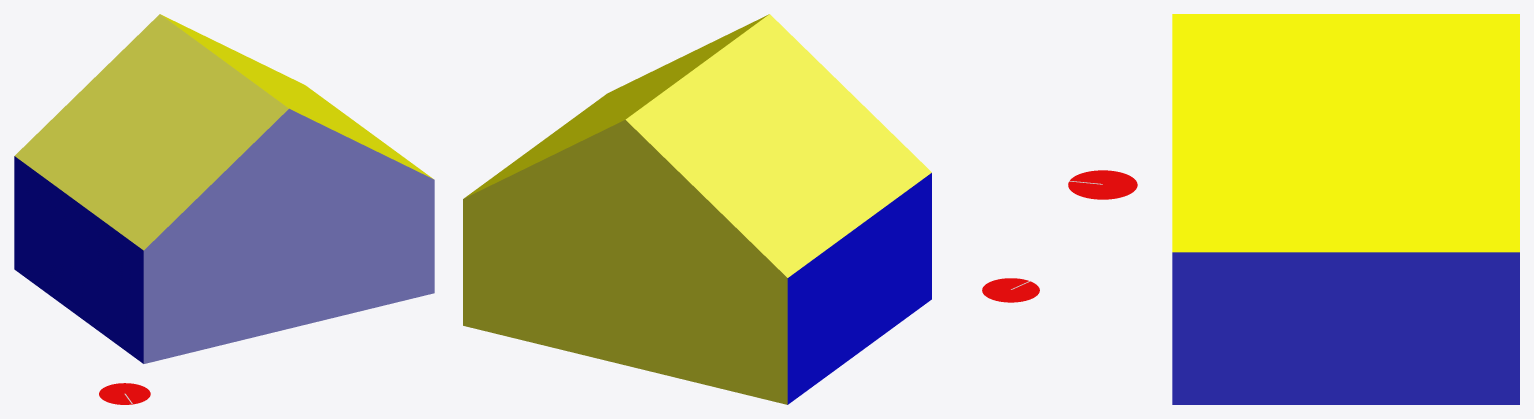
Rendered from result.glb.
3 renders of one model, left to right at view 1: azimuth 30°, elevation 25°; view 2: azimuth 150°, elevation 25°; view 3: azimuth 270°, elevation 25°, orthographic. The views are drawn at different scales.
Visible parts, largest first — view 1: 3507c7cc-89d1-4296-823a-120f9a2b0242__undefined, 63024888-dd49-4917-a18e-969b24917d59__undefined, 0f1f09f8-6d15-47b3-b816-8b475288f99f__undefined, b58f89b9-a729-4d24-a9eb-d510998540a3__undefined, 5fa8e370-a9c3-44a7-90ce-05d37f0db843__Circle; view 2: 46f8d21e-5612-4b25-8464-b7aa5bdd6b7a__undefined, 63024888-dd49-4917-a18e-969b24917d59__undefined, 0f1f09f8-6d15-47b3-b816-8b475288f99f__undefined, b58f89b9-a729-4d24-a9eb-d510998540a3__undefined, 5fa8e370-a9c3-44a7-90ce-05d37f0db843__Circle; view 3: b58f89b9-a729-4d24-a9eb-d510998540a3__undefined, 6f8ccc7a-7783-45f0-9da8-00d0e1b34f09__undefined, 5fa8e370-a9c3-44a7-90ce-05d37f0db843__Circle.
Boxes of the visible parts, box(x1,y1,x2,y2) form: 3507c7cc-89d1-4296-823a-120f9a2b0242__undefined: box(143, 108, 434, 363); 63024888-dd49-4917-a18e-969b24917d59__undefined: box(15, 14, 288, 250); 0f1f09f8-6d15-47b3-b816-8b475288f99f__undefined: box(14, 156, 143, 363); b58f89b9-a729-4d24-a9eb-d510998540a3__undefined: box(160, 14, 432, 178); 5fa8e370-a9c3-44a7-90ce-05d37f0db843__Circle: box(99, 383, 150, 404); 46f8d21e-5612-4b25-8464-b7aa5bdd6b7a__undefined: box(463, 119, 787, 404); 63024888-dd49-4917-a18e-969b24917d59__undefined: box(625, 14, 931, 277); 0f1f09f8-6d15-47b3-b816-8b475288f99f__undefined: box(787, 173, 931, 404); b58f89b9-a729-4d24-a9eb-d510998540a3__undefined: box(464, 14, 768, 198); 5fa8e370-a9c3-44a7-90ce-05d37f0db843__Circle: box(982, 278, 1039, 302); b58f89b9-a729-4d24-a9eb-d510998540a3__undefined: box(1172, 14, 1519, 252); 6f8ccc7a-7783-45f0-9da8-00d0e1b34f09__undefined: box(1172, 252, 1519, 404); 5fa8e370-a9c3-44a7-90ce-05d37f0db843__Circle: box(1068, 170, 1137, 199).
Size of the model in its own units: 799 by 469 by 650.
